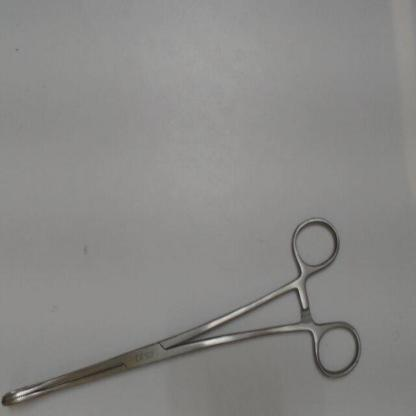Sponge Forceps: (0, 206, 366, 411)
